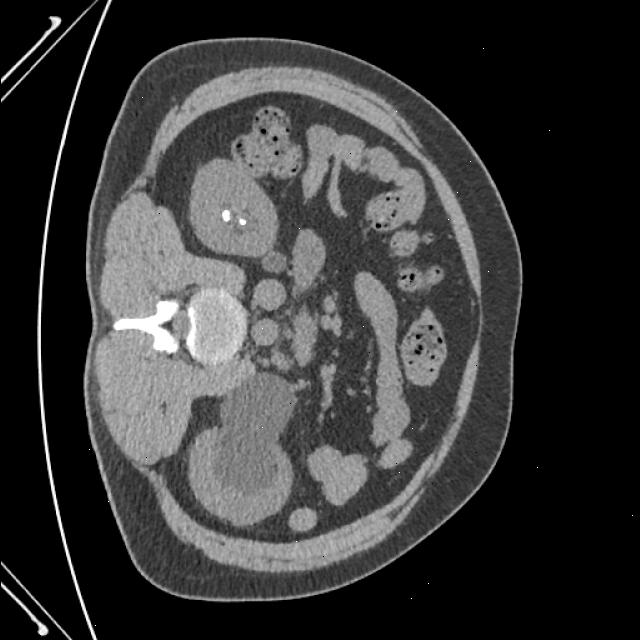kidneystone: (221, 210, 230, 222), (238, 218, 245, 223)
